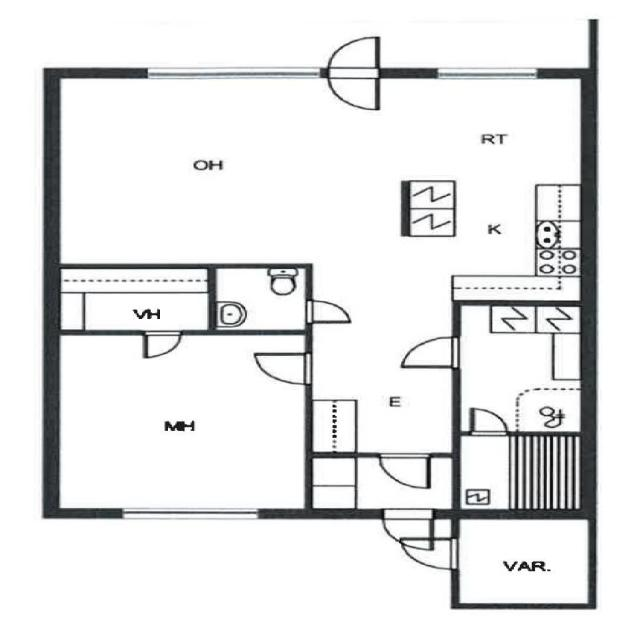door: (329, 68, 379, 110), (382, 509, 433, 550), (329, 37, 379, 78), (380, 453, 430, 488), (403, 539, 459, 569), (256, 354, 312, 384), (404, 338, 458, 368), (304, 300, 348, 324), (472, 410, 506, 436), (145, 331, 180, 356)
